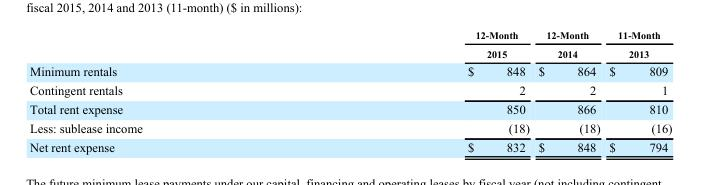table: (28, 29, 671, 153)
table column: (28, 29, 304, 153), (304, 29, 533, 153), (533, 29, 604, 153), (604, 29, 671, 153)
table column header: (28, 29, 671, 61)
table row: (28, 29, 671, 61), (28, 61, 671, 80), (28, 80, 671, 99), (28, 99, 671, 118), (28, 118, 671, 137), (28, 137, 671, 153)
